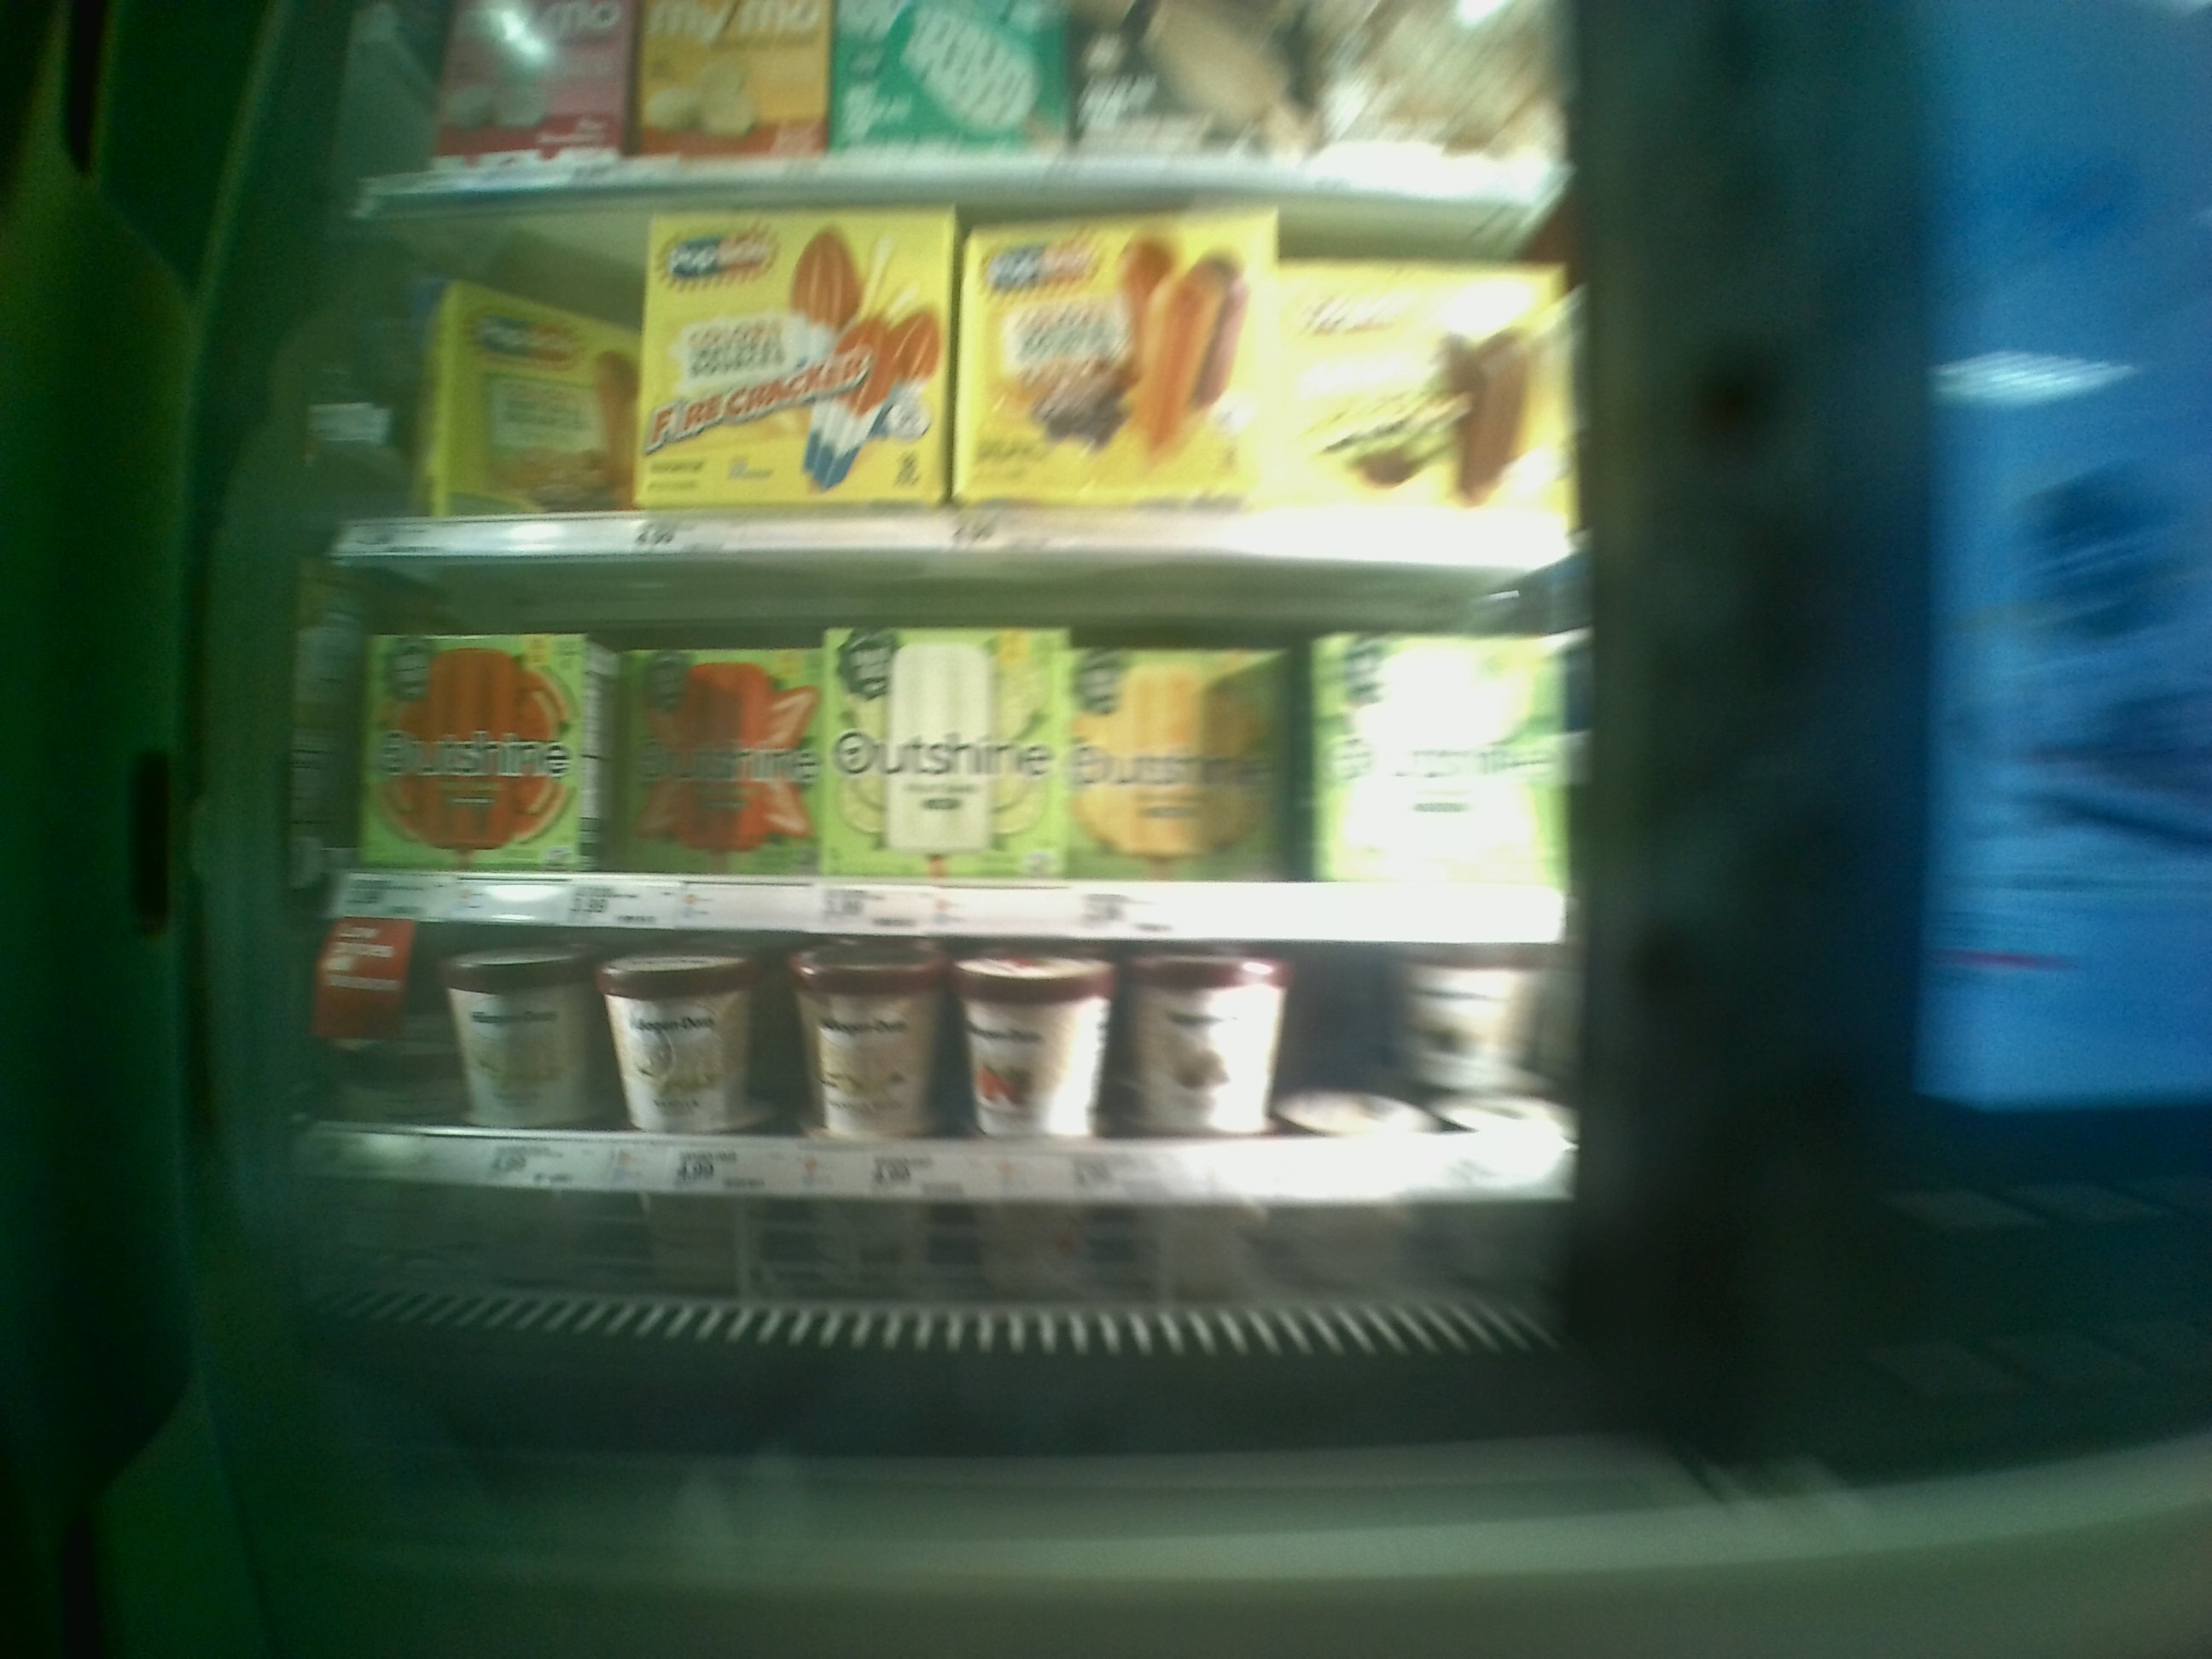shelf: (303, 181, 1583, 568), (298, 561, 1588, 945), (303, 915, 1588, 1293)
